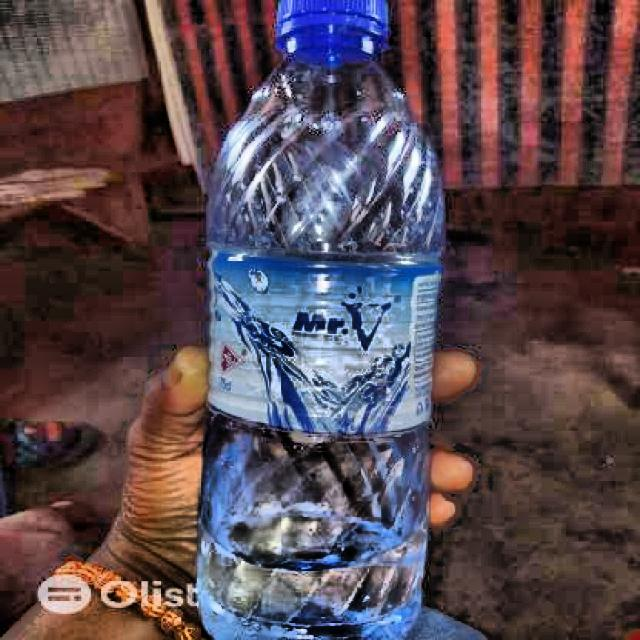Bottles: (166, 0, 469, 640)
